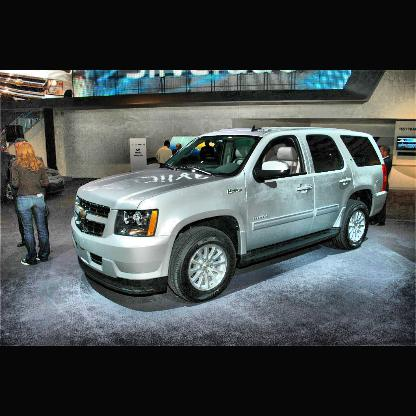Chevrolet Tahoe Hybrid SUV 2012: (72, 127, 391, 304)
